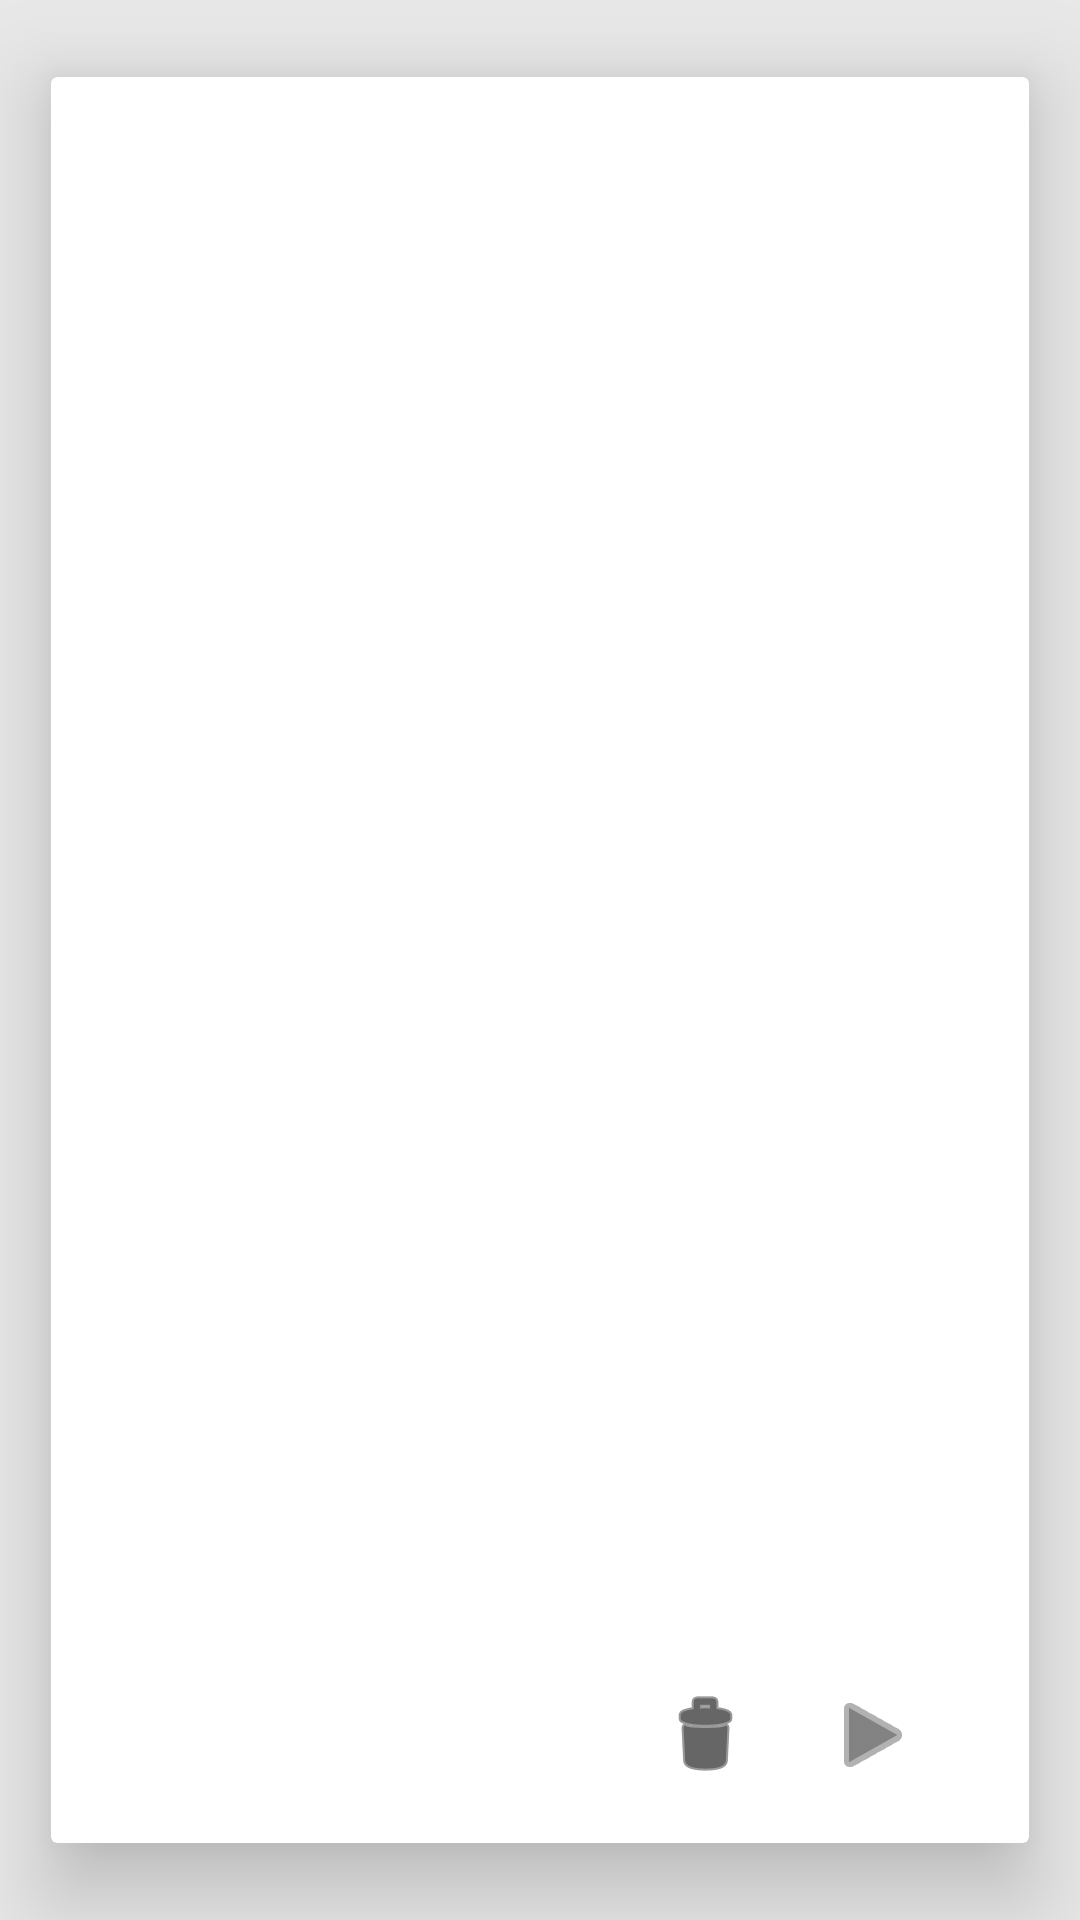

Icon click points for this 1080px×1920px phone screenshot, format [x,y]:
delete: [705,1733]
play: [873,1735]
